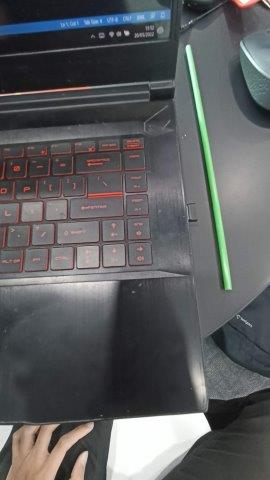sedotan: (186, 47, 231, 291)
